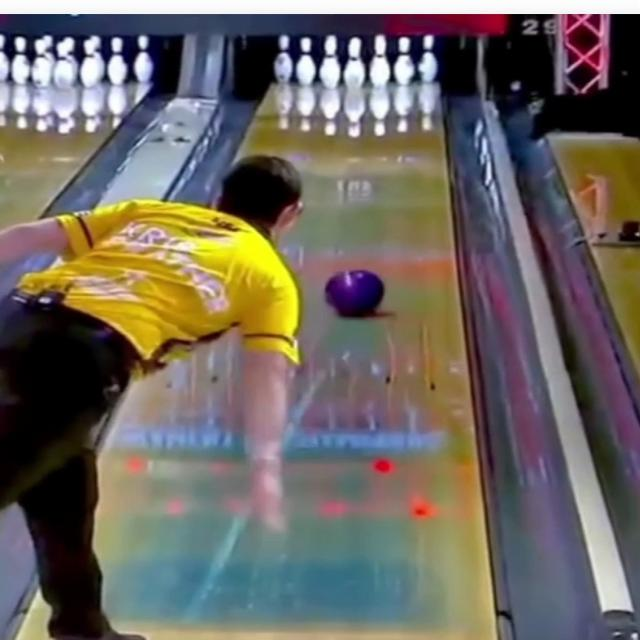alley: (97, 84, 493, 639)
balls: (326, 269, 390, 318)
bottle: (273, 34, 438, 88)
